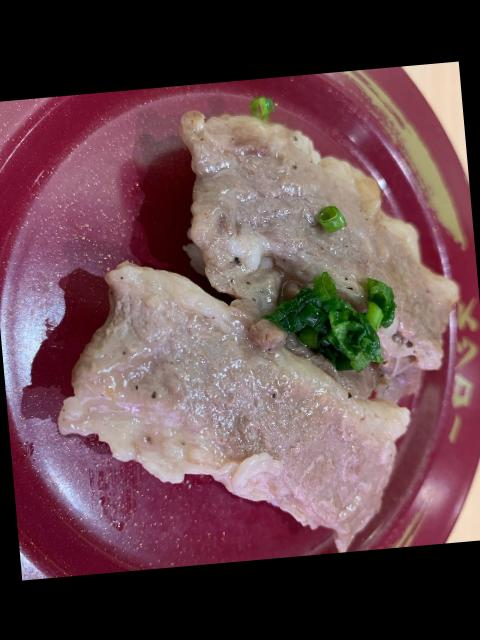janred: (0, 60, 480, 580)
